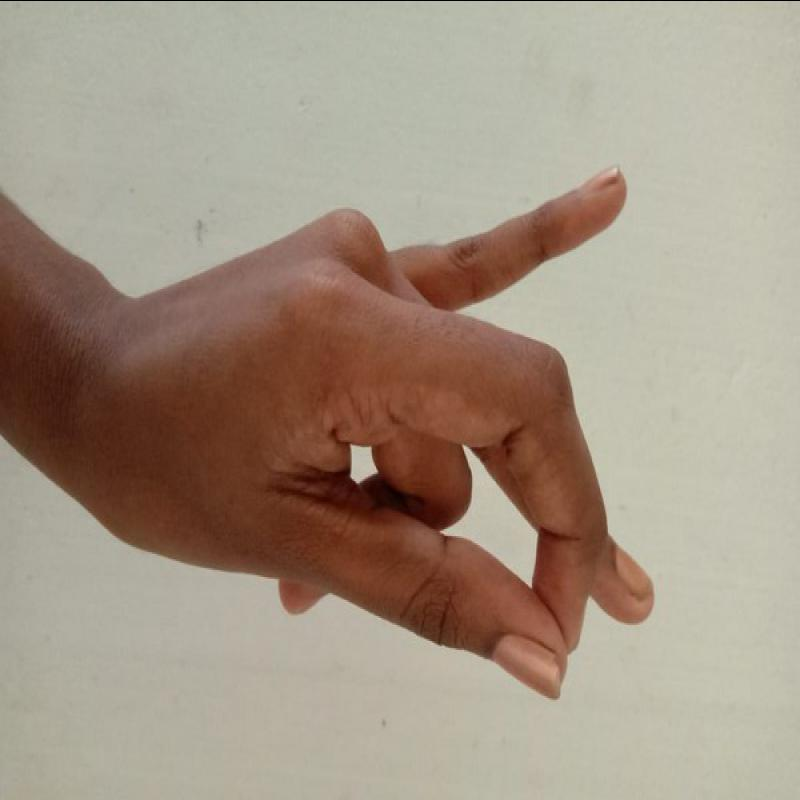Katakam: (109, 159, 670, 709)
